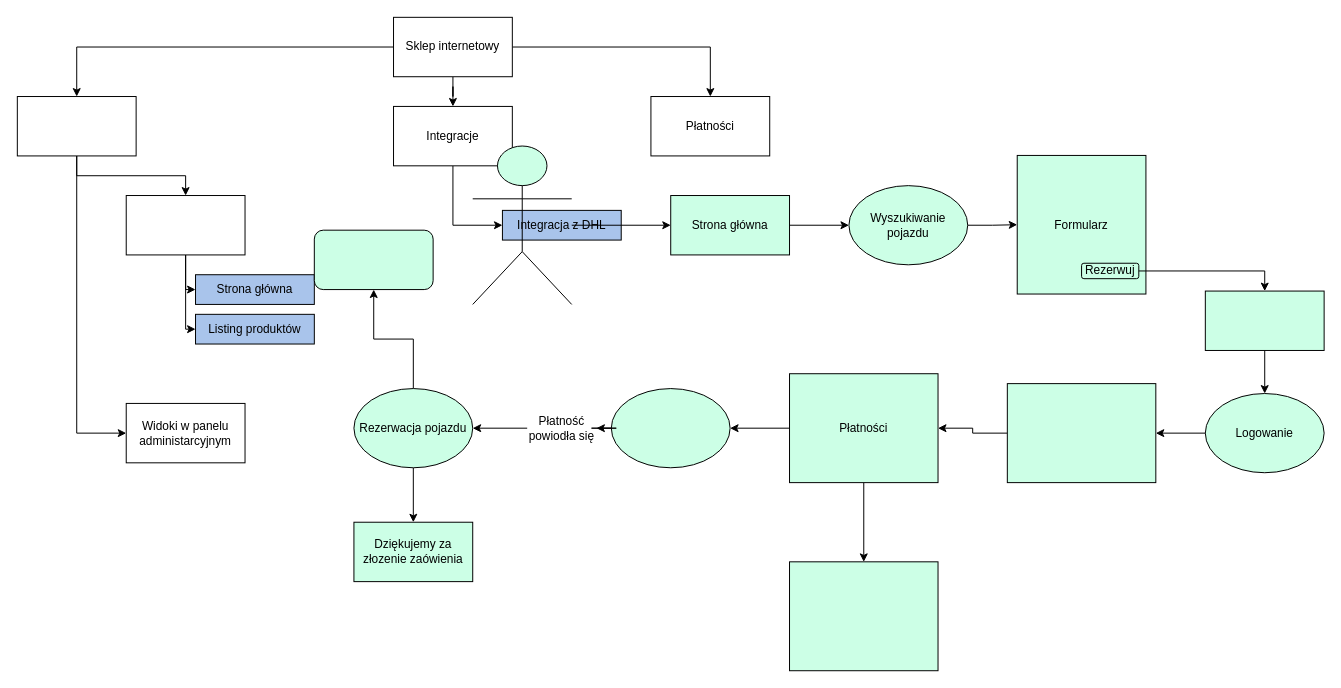
The diagram is 1341 pixels wide and 688 high, and some of its shapes have lost their labels. The centre of each missing label's shape, as x and y in pixels:
"Ekran logowania" goes at (1264,320).
"Kartą za pomocą" goes at (863,616).
"Potwierdzenie rezerwacji" goes at (1081,433).
"Przygotowanie widokow" goes at (76,126).
"Użytkownik" goes at (522,224).
"Web service" goes at (373,259).
"Widoki w sklepie" goes at (185,225).
"Zapłać" goes at (670,428).
